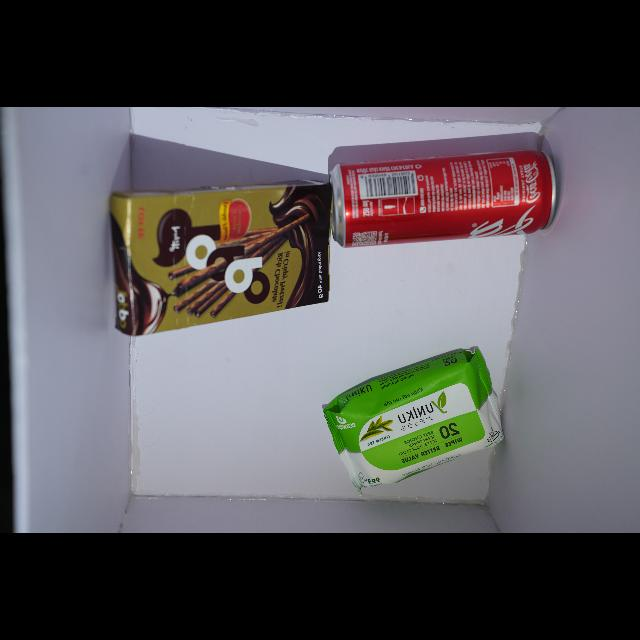banh_toppo_socola: (110, 181, 331, 336)
coca_cola: (330, 150, 555, 247)
khan_giay: (323, 348, 504, 493)
